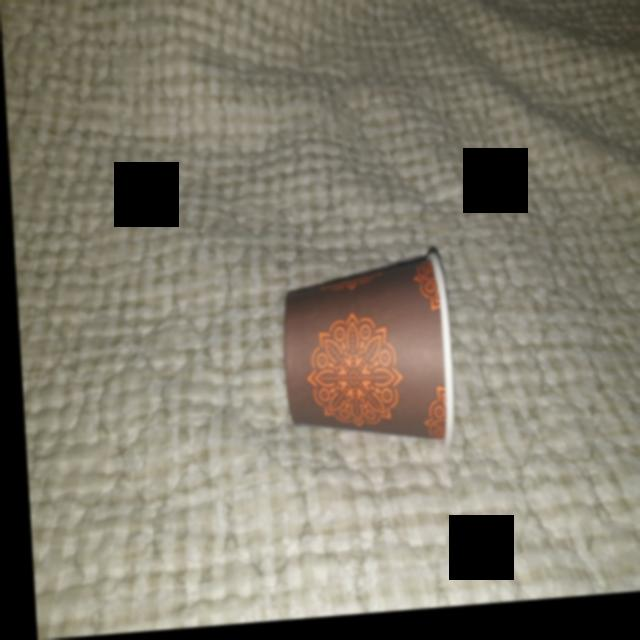cups: (267, 248, 465, 480)
